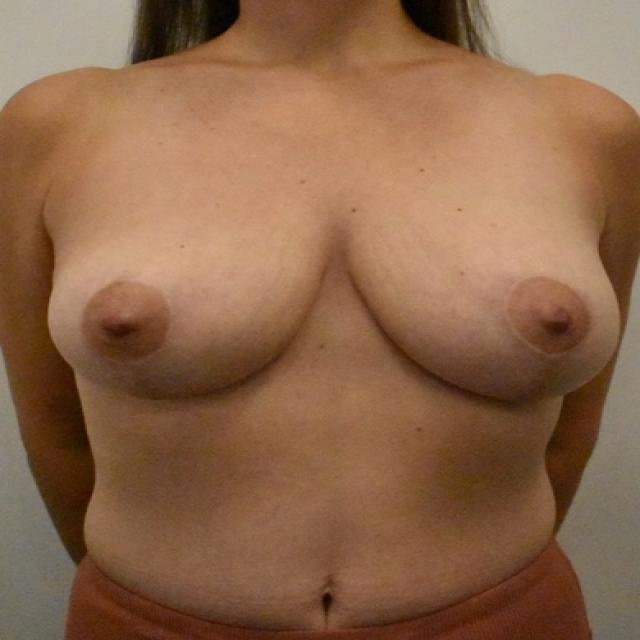Seno ileso: (35, 141, 333, 433), (341, 142, 634, 433)
